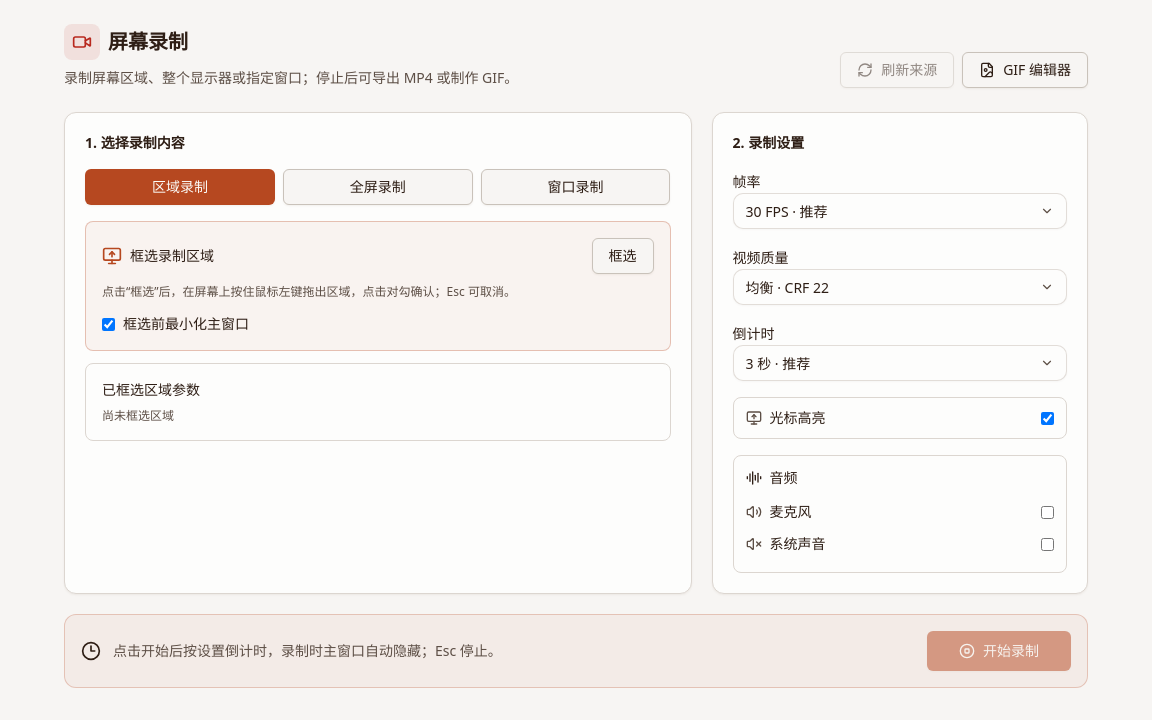
Test case: 录屏模式 › 全屏录制选定的副显示器，不要求框选区域
Click the button "全屏录制".
click(378, 187)  # box [283,169,473,205]
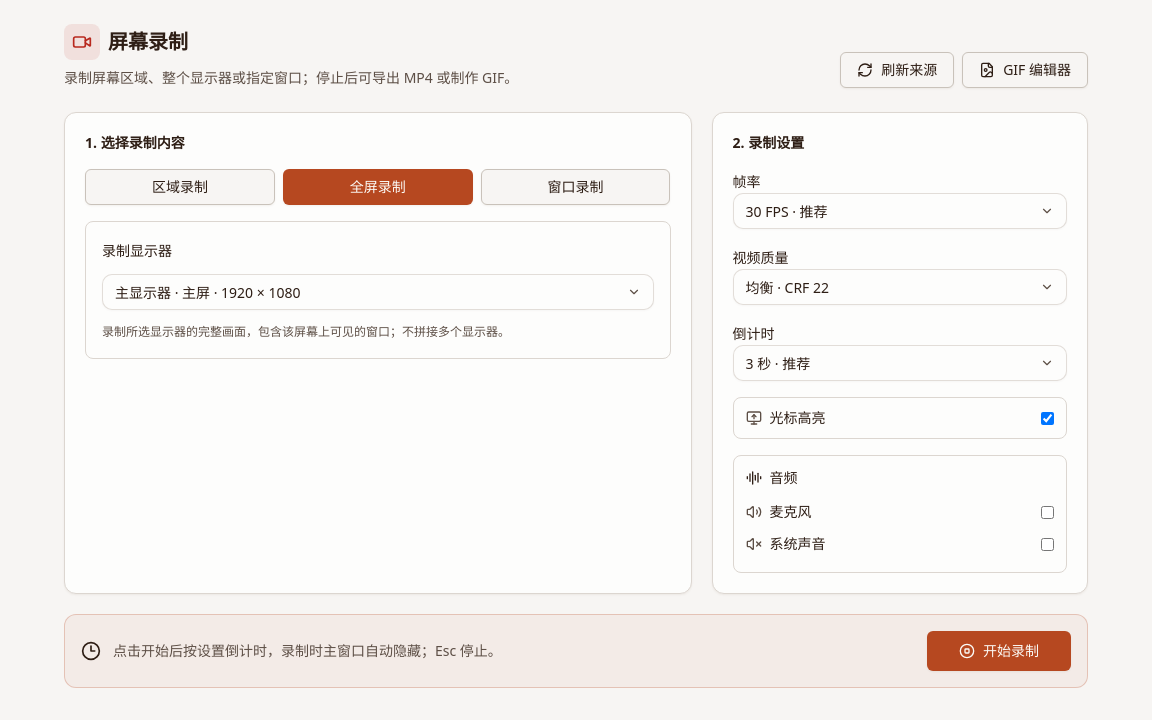
Click the dropdown named "录制显示器".
click(208, 292)  # box [102,274,654,310]
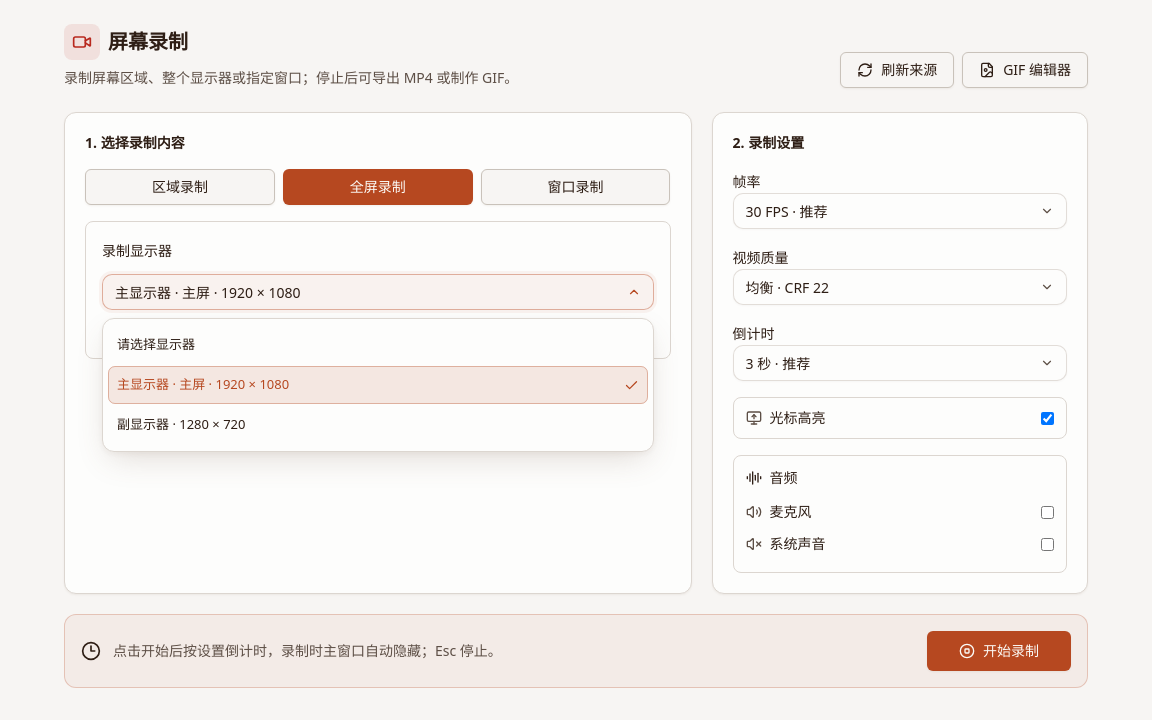
Click the option "副显示器 · 1280 × 720".
click(181, 424)  # box [117,415,246,433]
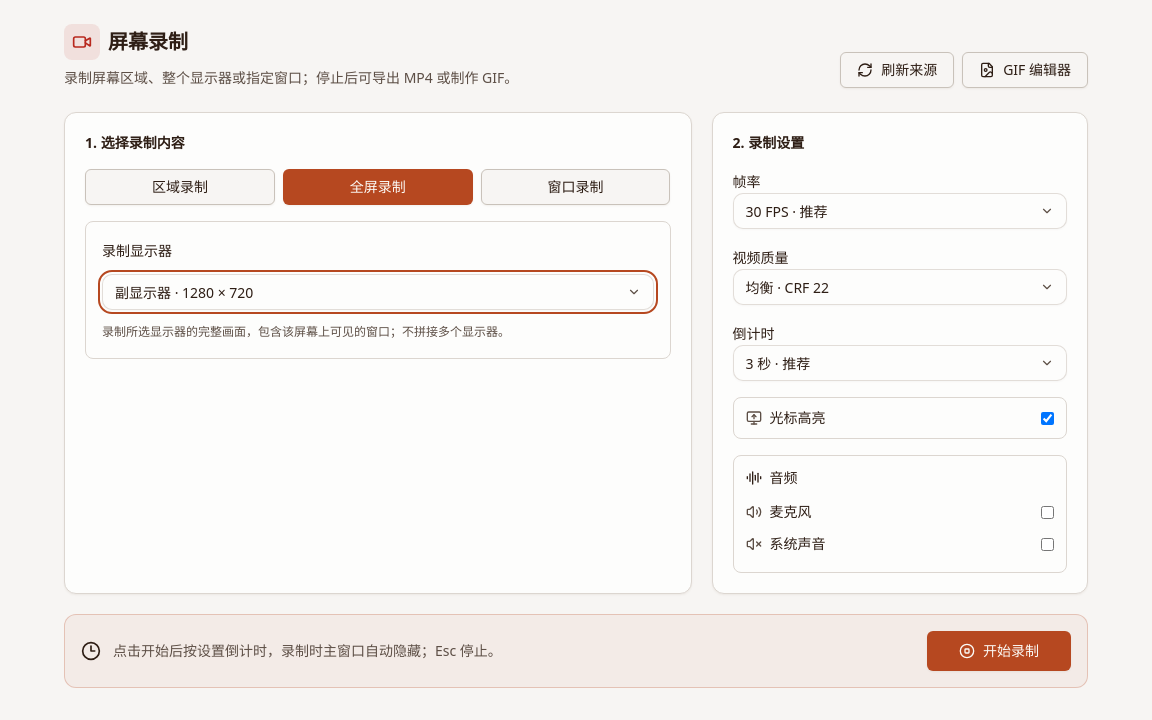
Click the dropdown named "倒计时".
click(778, 363)  # box [732,345,1067,381]
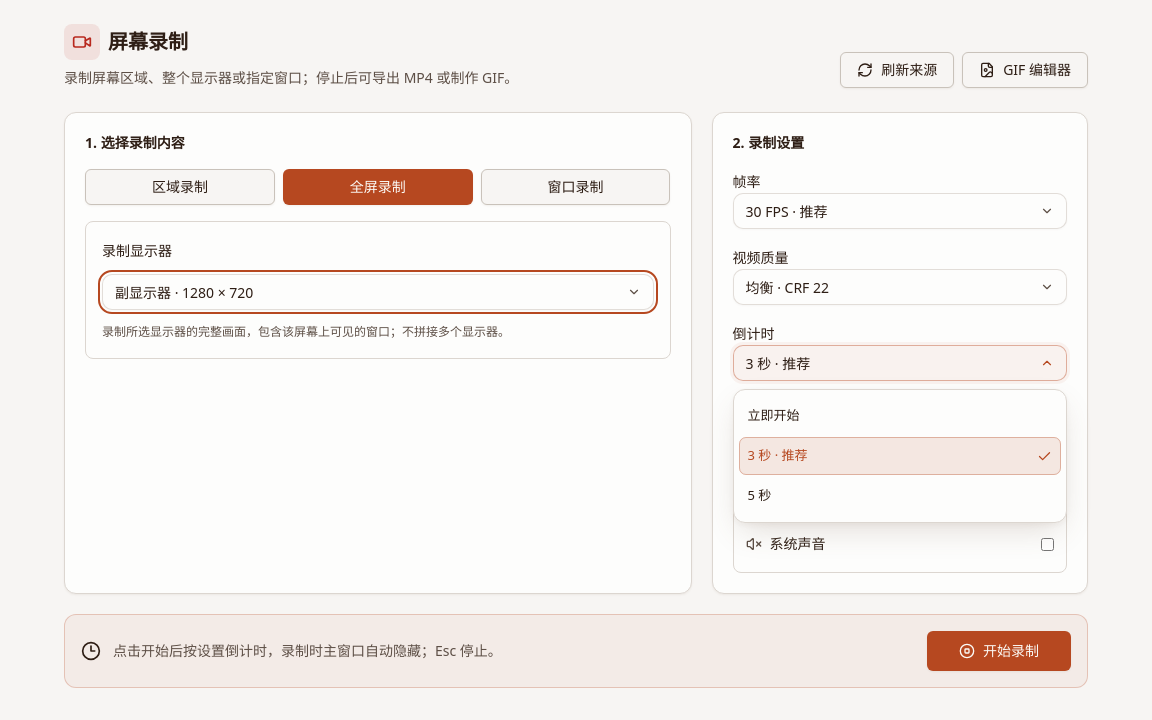
Click the option "立即开始".
click(774, 415)  # box [748,406,800,424]
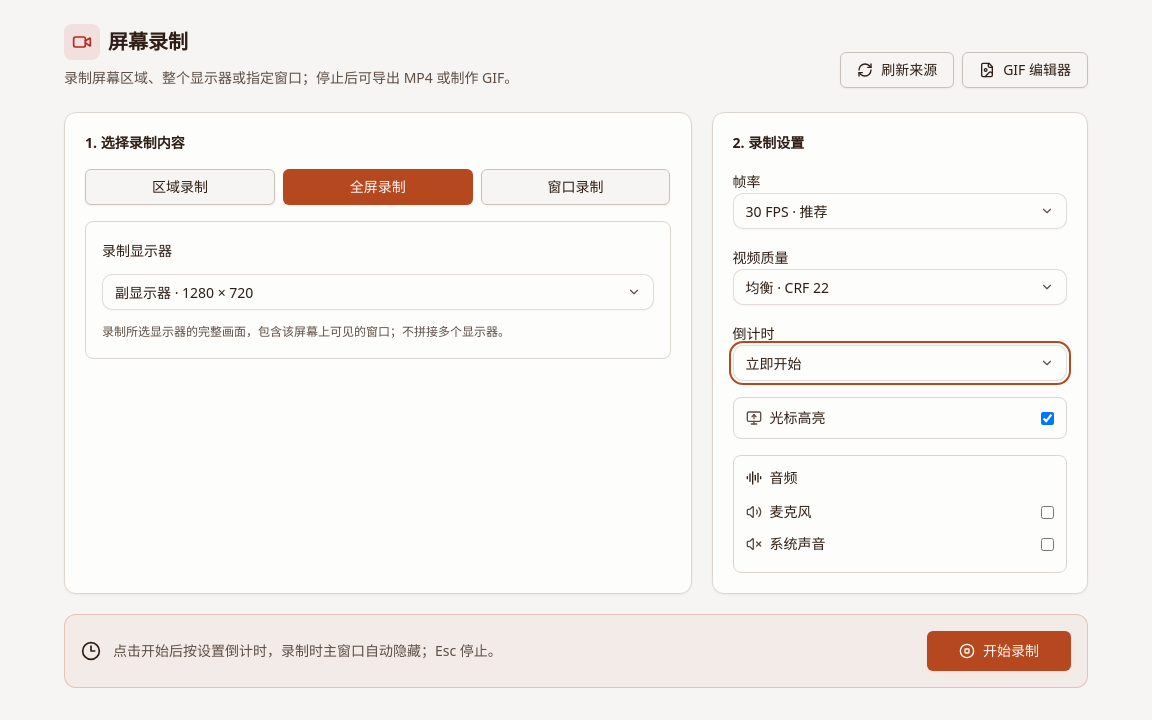
Click the button "开始录制".
click(999, 651)  # box [927,631,1071,671]
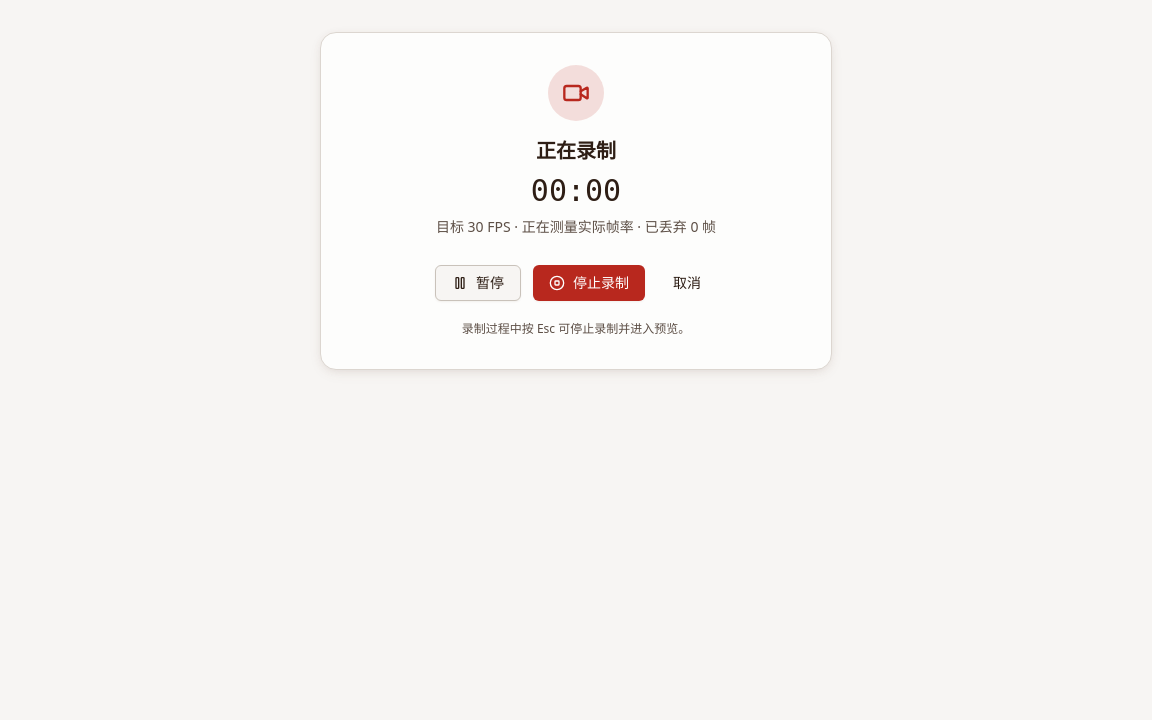
Check: the heading "正在录制" is shown, box [536,137,616,164]
